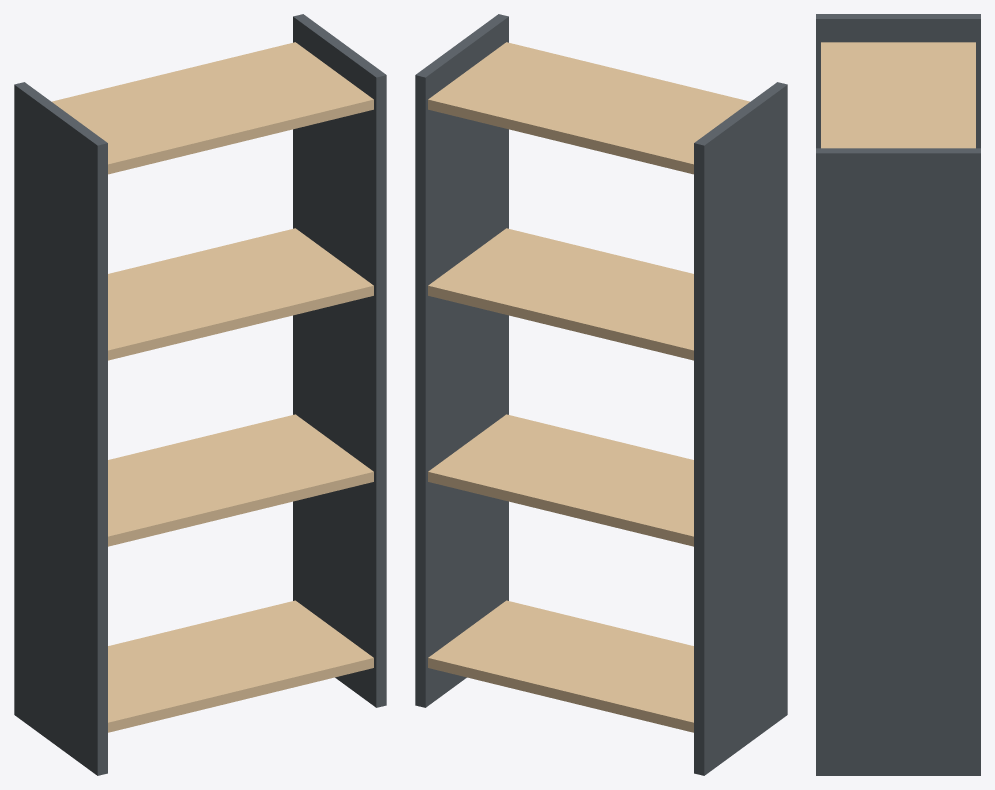
File: modern_office_asset_library_board_50.glb
The picture shows the model from 3 angles, left to right: view 1: azimuth 30°, elevation 25°; view 2: azimuth 150°, elevation 25°; view 3: azimuth 270°, elevation 25°; orthographic projection.
Parts seen in each view (by area): view 1: Cube; view 2: Cube; view 3: Cube.
Part boxes in pixels (<box>): Cube: <box>14,14,386,775</box>; Cube: <box>415,14,787,775</box>; Cube: <box>816,14,980,775</box>.
Bounding box in the file's own units: 0.84 × 1.75 × 0.42.
